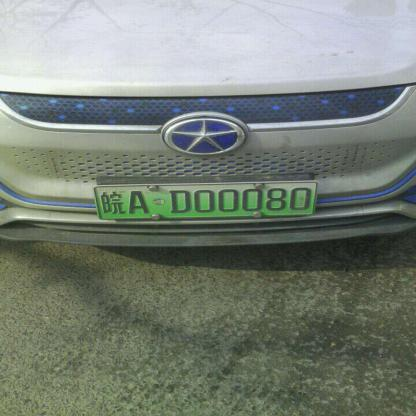lp: (94, 181, 320, 219)
